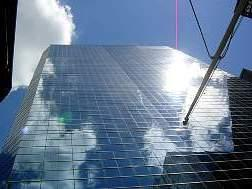building: (1, 45, 252, 189)
